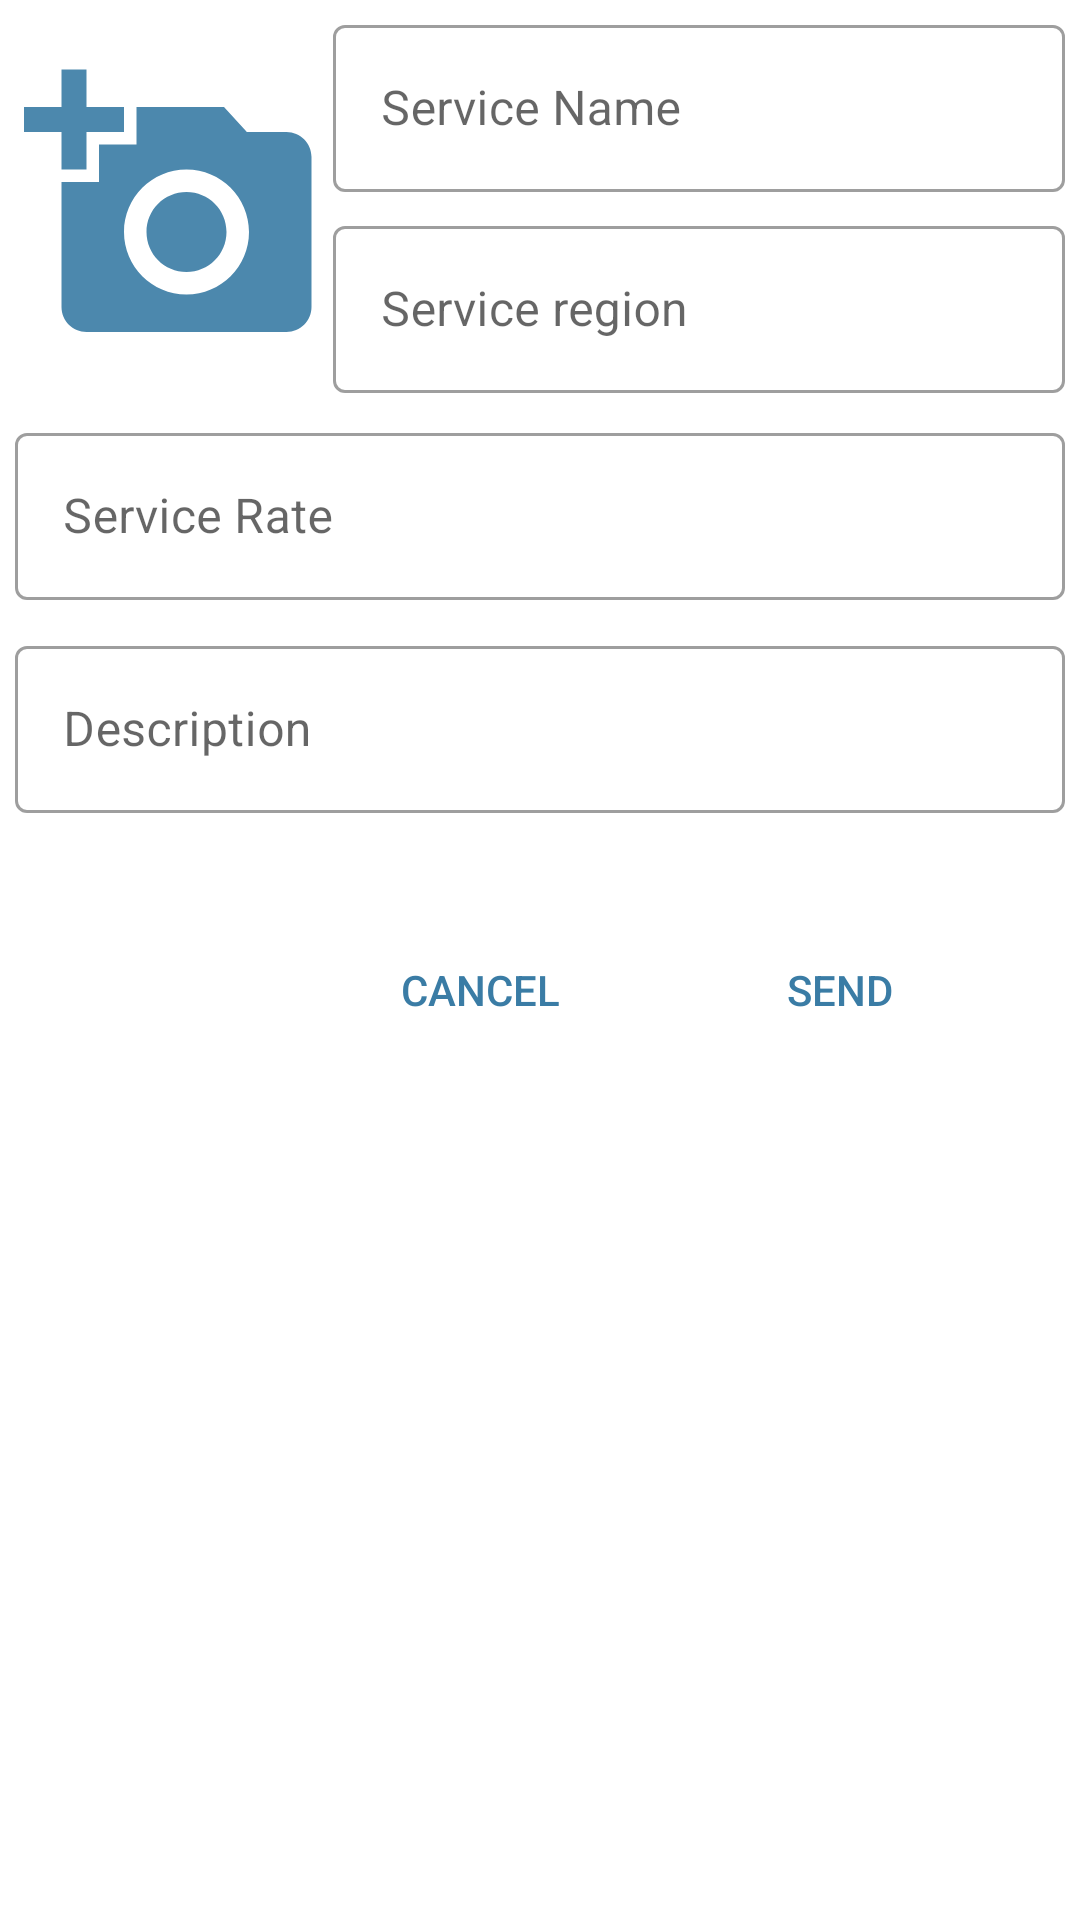

Named icons in this screenshot (1080*1920) and their bounding boxes, bbox(x1, y1, x2, y2):
add photo: bbox(24, 69, 312, 332)
